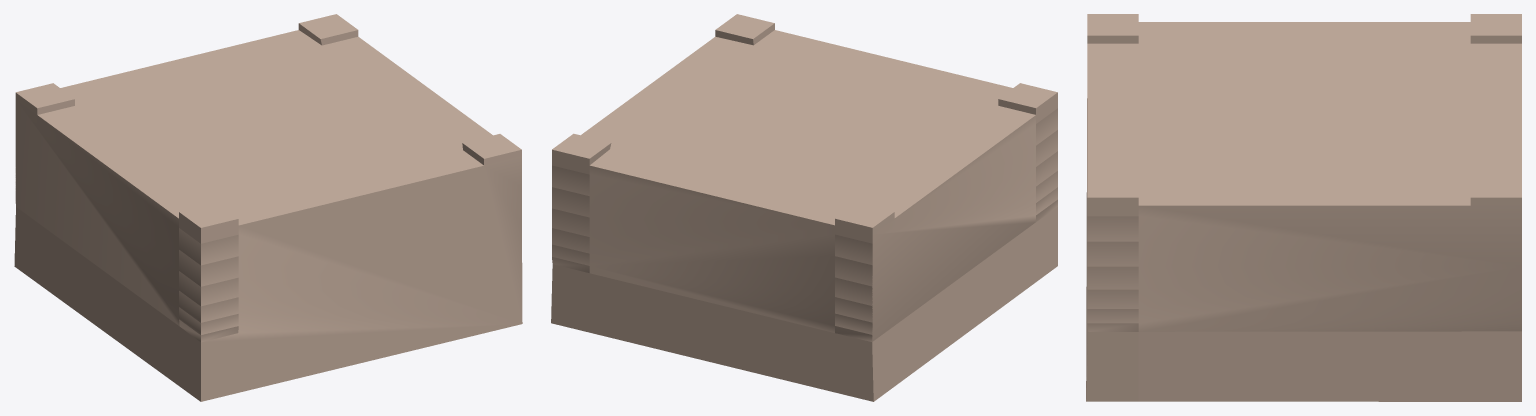
Rendered from DustCityHouse_4Corners.fbx.
3 renders of one model, left to right at view 1: azimuth 30°, elevation 25°; view 2: azimuth 150°, elevation 25°; view 3: azimuth 270°, elevation 25°, orthographic. The views are drawn at different scales.
Parts seen in each view (by area): view 1: DCHouse_4Corner; view 2: DCHouse_4Corner; view 3: DCHouse_4Corner.
Part boxes in pixels (bbox=[...]): DCHouse_4Corner: bbox=[14, 14, 522, 401]; DCHouse_4Corner: bbox=[551, 14, 1057, 401]; DCHouse_4Corner: bbox=[1086, 14, 1521, 401].
Size of the model in its own units: 151 by 77.66 by 150.
